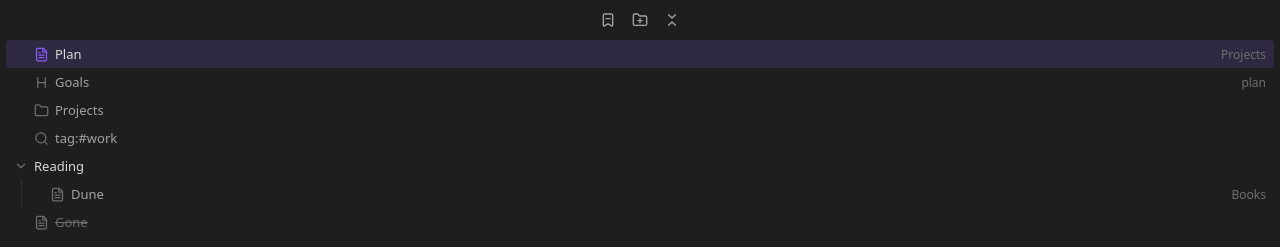
Test: BookmarksPanel › removes a bookmark from its menu and saves the list with its version
Step 1. Right-click the list item "Projects" → [69, 110], box 34,101 -> 104,119
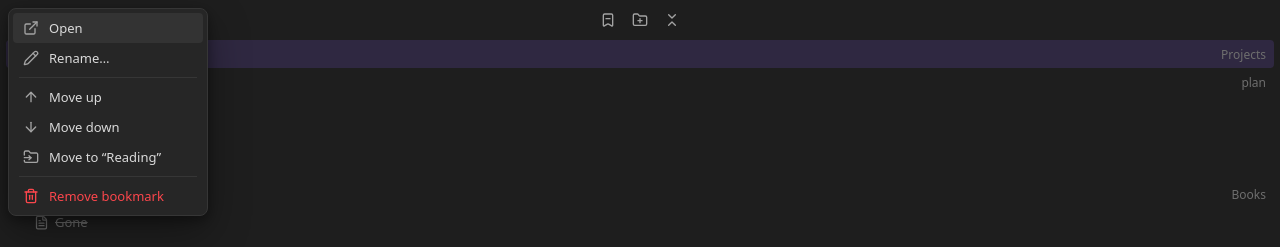
Step 2. Click the menu item "Remove bookmark" → [108, 196], box 13,181 -> 203,211
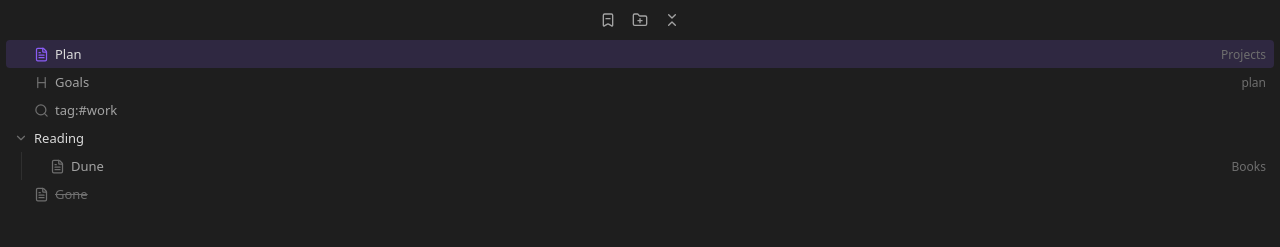
expect the menu no longer shows "Projects": met
